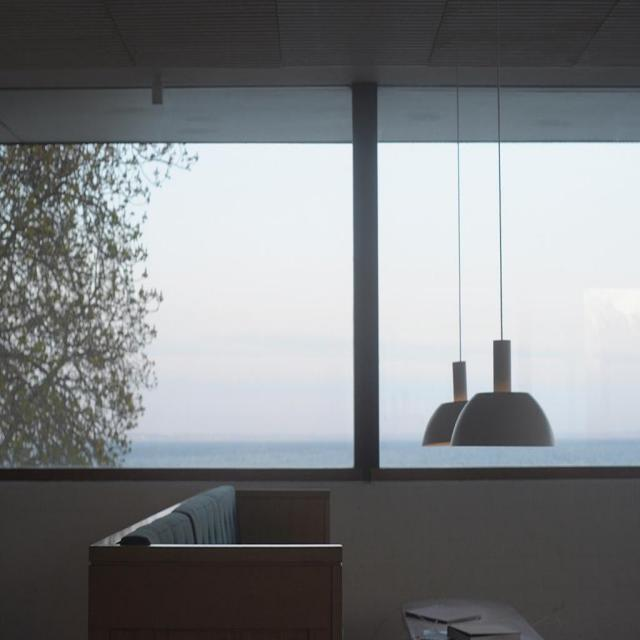table: (404, 601, 540, 639)
